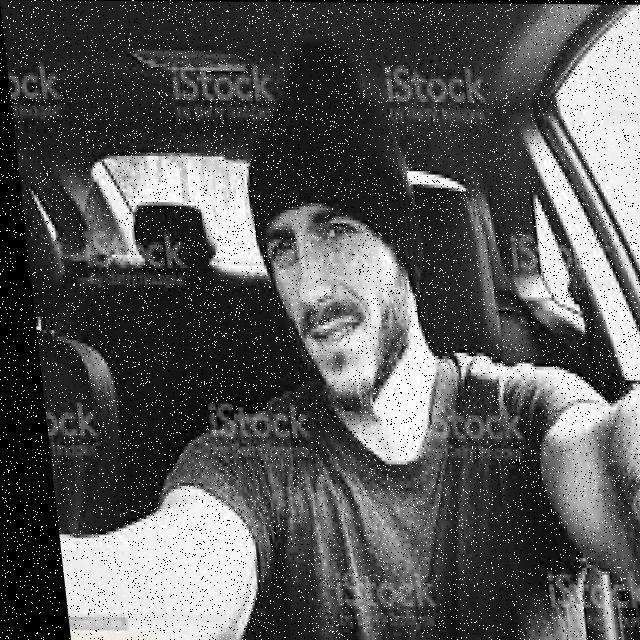noSeatbelt: (164, 333, 622, 640)
